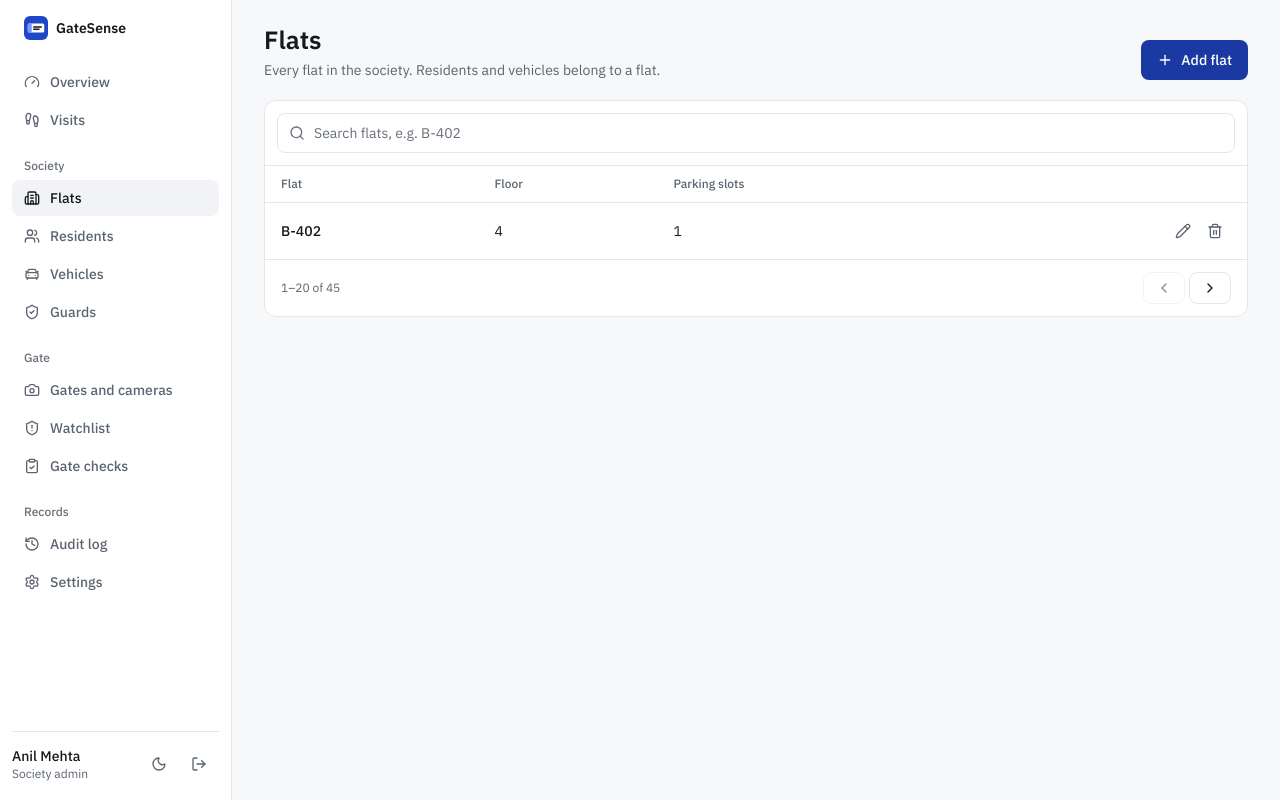
Test: Flats › searches after a pause, pages through results and clears an empty search
Later steps or results of the test are not shown.
Expected: the text "1–20 of 45" is shown, [281,280,340,296]
Click the button named "Next page": (1210, 288) [1189,272,1231,304]
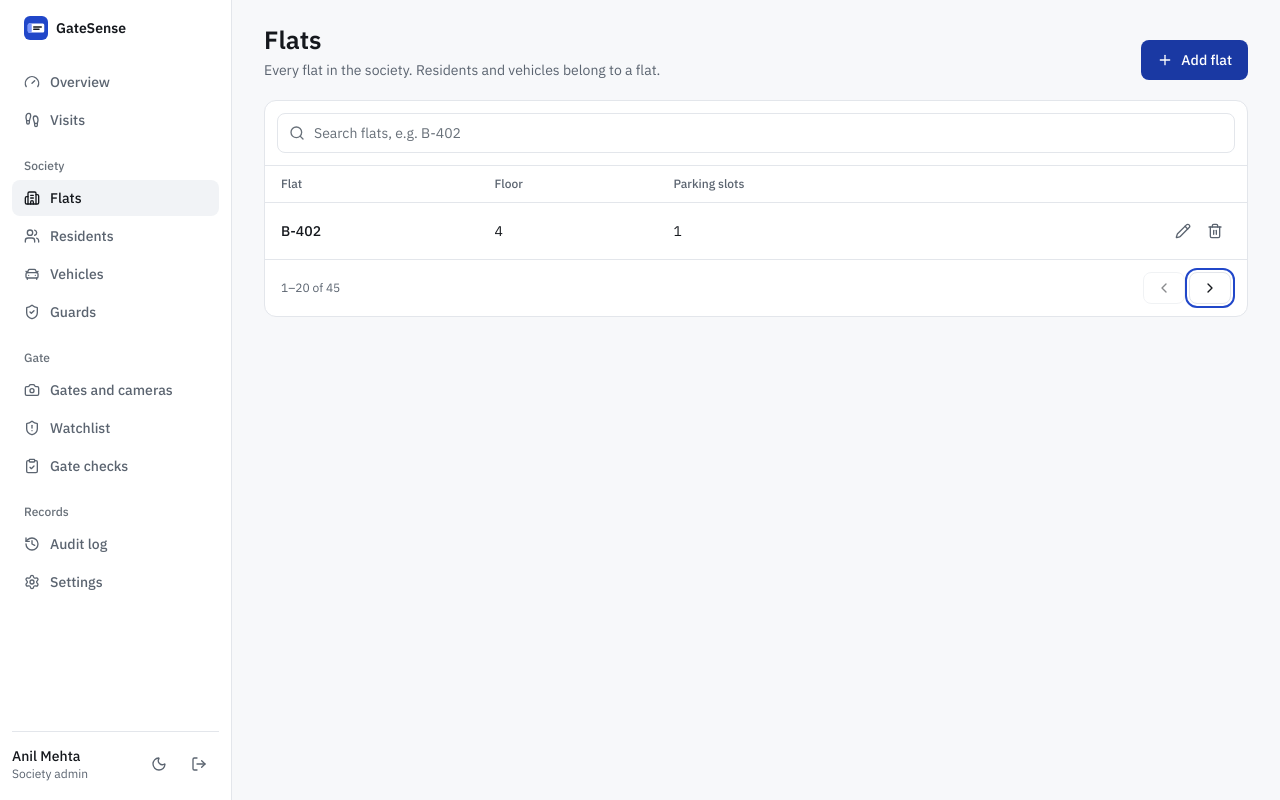
In the field labelled "Search flats, e.g. B-402": (756, 133) [277,113,1235,153], type "Z-999"
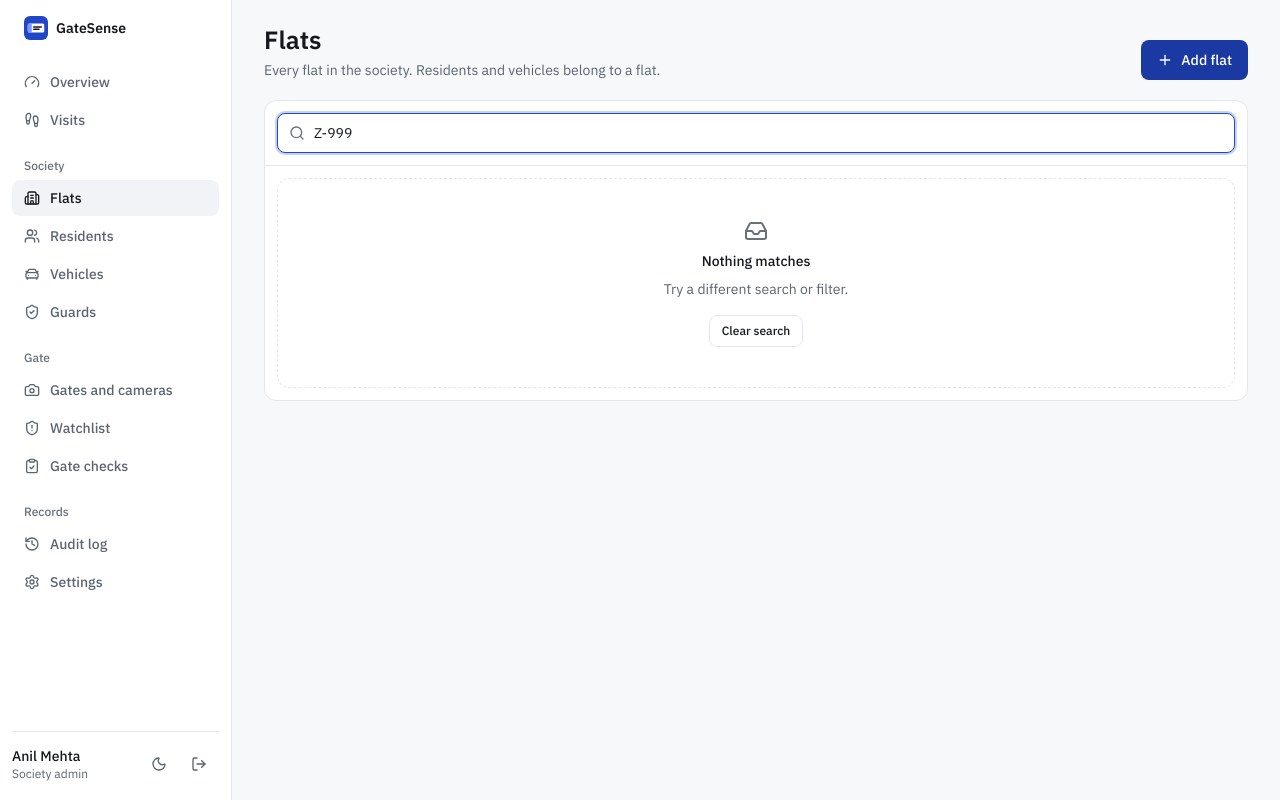
Result: the text "Nothing matches" is shown at [702,251,810,271]
Click the button "Clear search": (756, 331) [709,315,803,347]
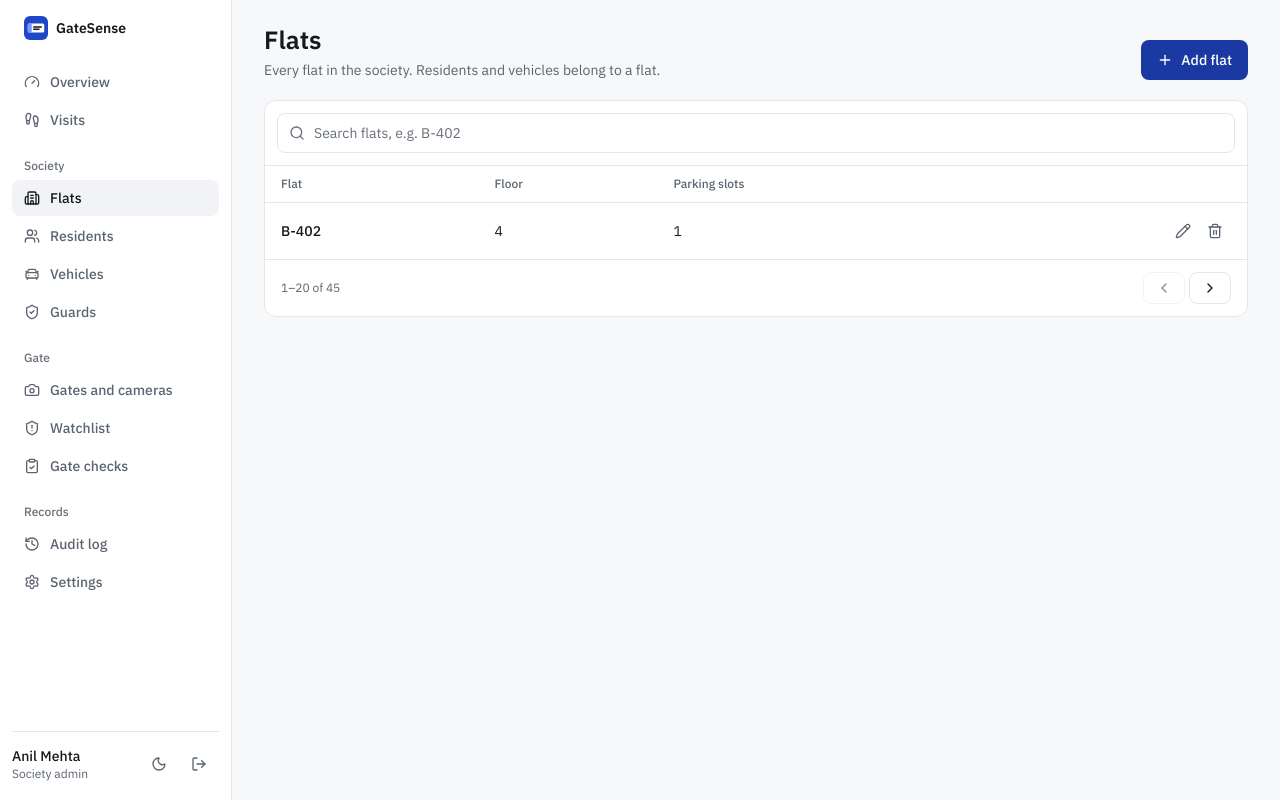
Result: the text "B-402" is shown at [281,222,321,240]
